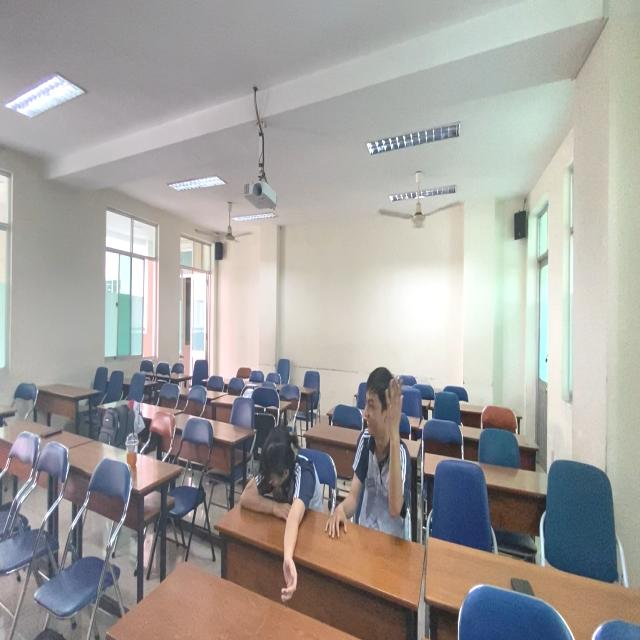raise_hand: (346, 363, 413, 535)
sleep: (238, 415, 319, 594)
